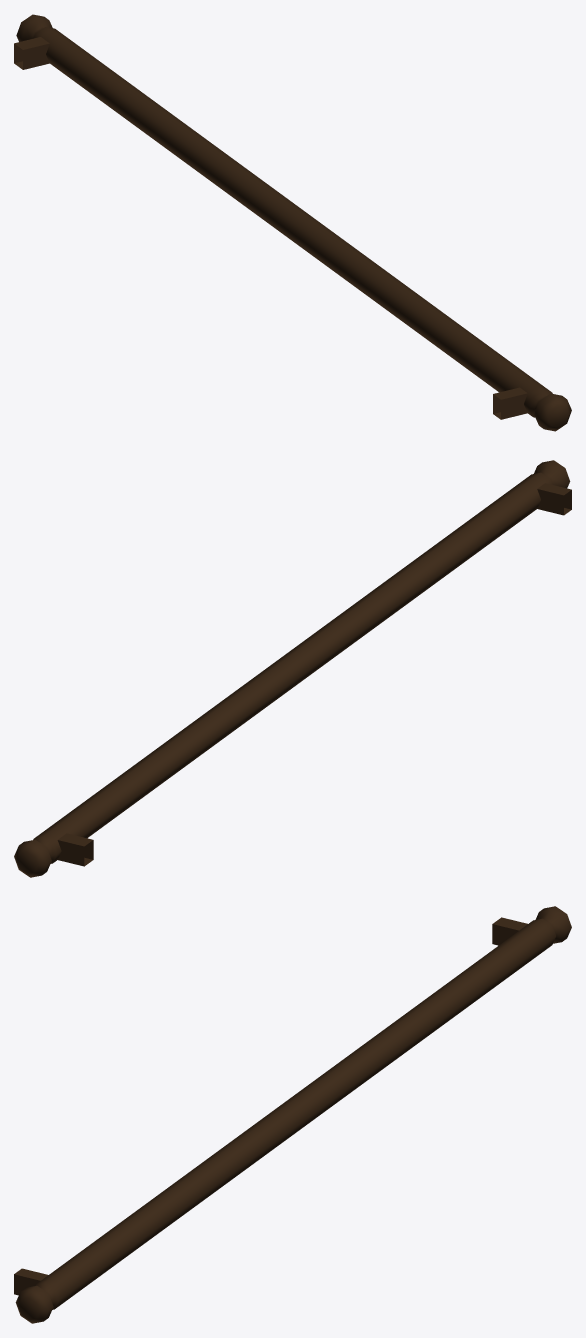
Rendered from curtain_pole.fbx.
3 renders of one model, top to bottom at view 1: azimuth 30°, elevation 25°; view 2: azimuth 150°, elevation 25°; view 3: azimuth 330°, elevation 25°, orthographic.
Parts seen in each view (by area): view 1: curtain_rail; view 2: curtain_rail; view 3: curtain_rail.
Boxes of the visible parts, x1,y1,x2,y2 form: curtain_rail: [14, 14, 571, 431]; curtain_rail: [14, 460, 571, 877]; curtain_rail: [14, 906, 571, 1323].
Size of the model in its own units: 8.56 by 5.33 by 149.
